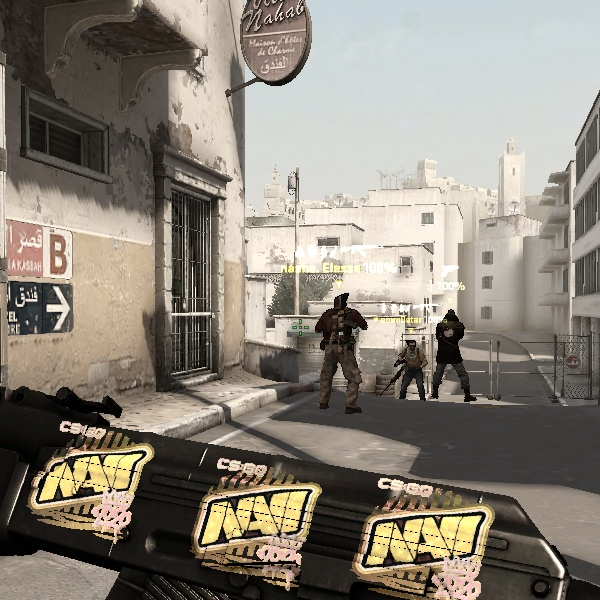t_body: (312, 290, 377, 415), (431, 306, 481, 402), (393, 337, 431, 401)
t_head: (329, 291, 354, 317), (443, 306, 462, 325), (404, 338, 421, 354)
